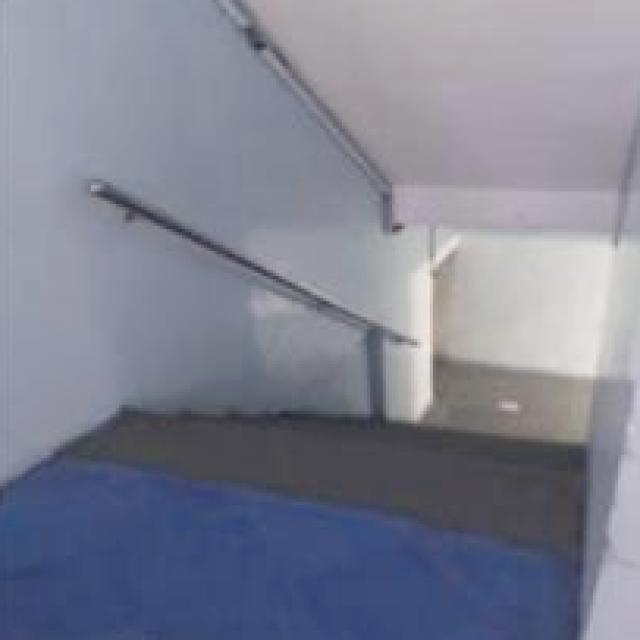downstair: (208, 309, 581, 510)
